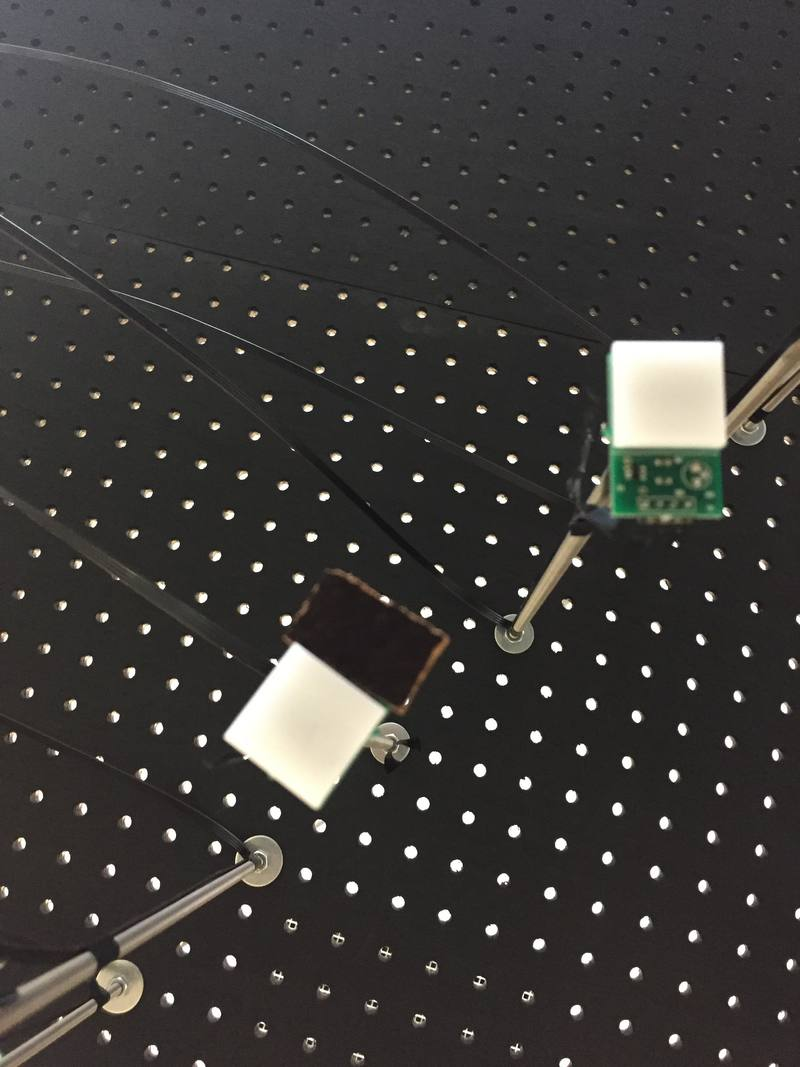target: (223, 650, 387, 814), (612, 337, 730, 448)
